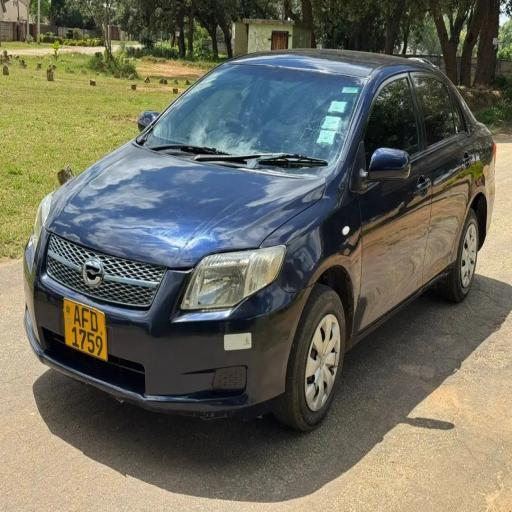number-plates: (63, 297, 108, 365)
